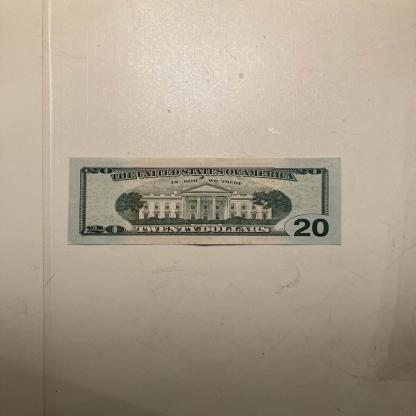twenty-back: (65, 156, 343, 245)
